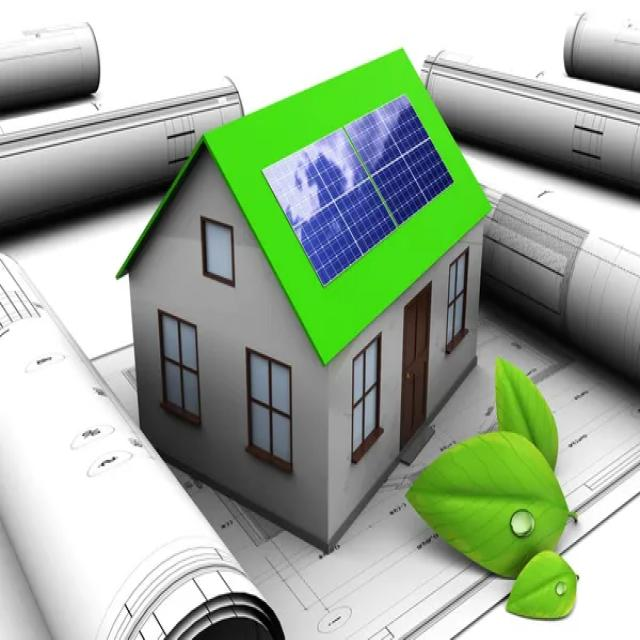clean-solar-panel: (263, 97, 456, 283)
